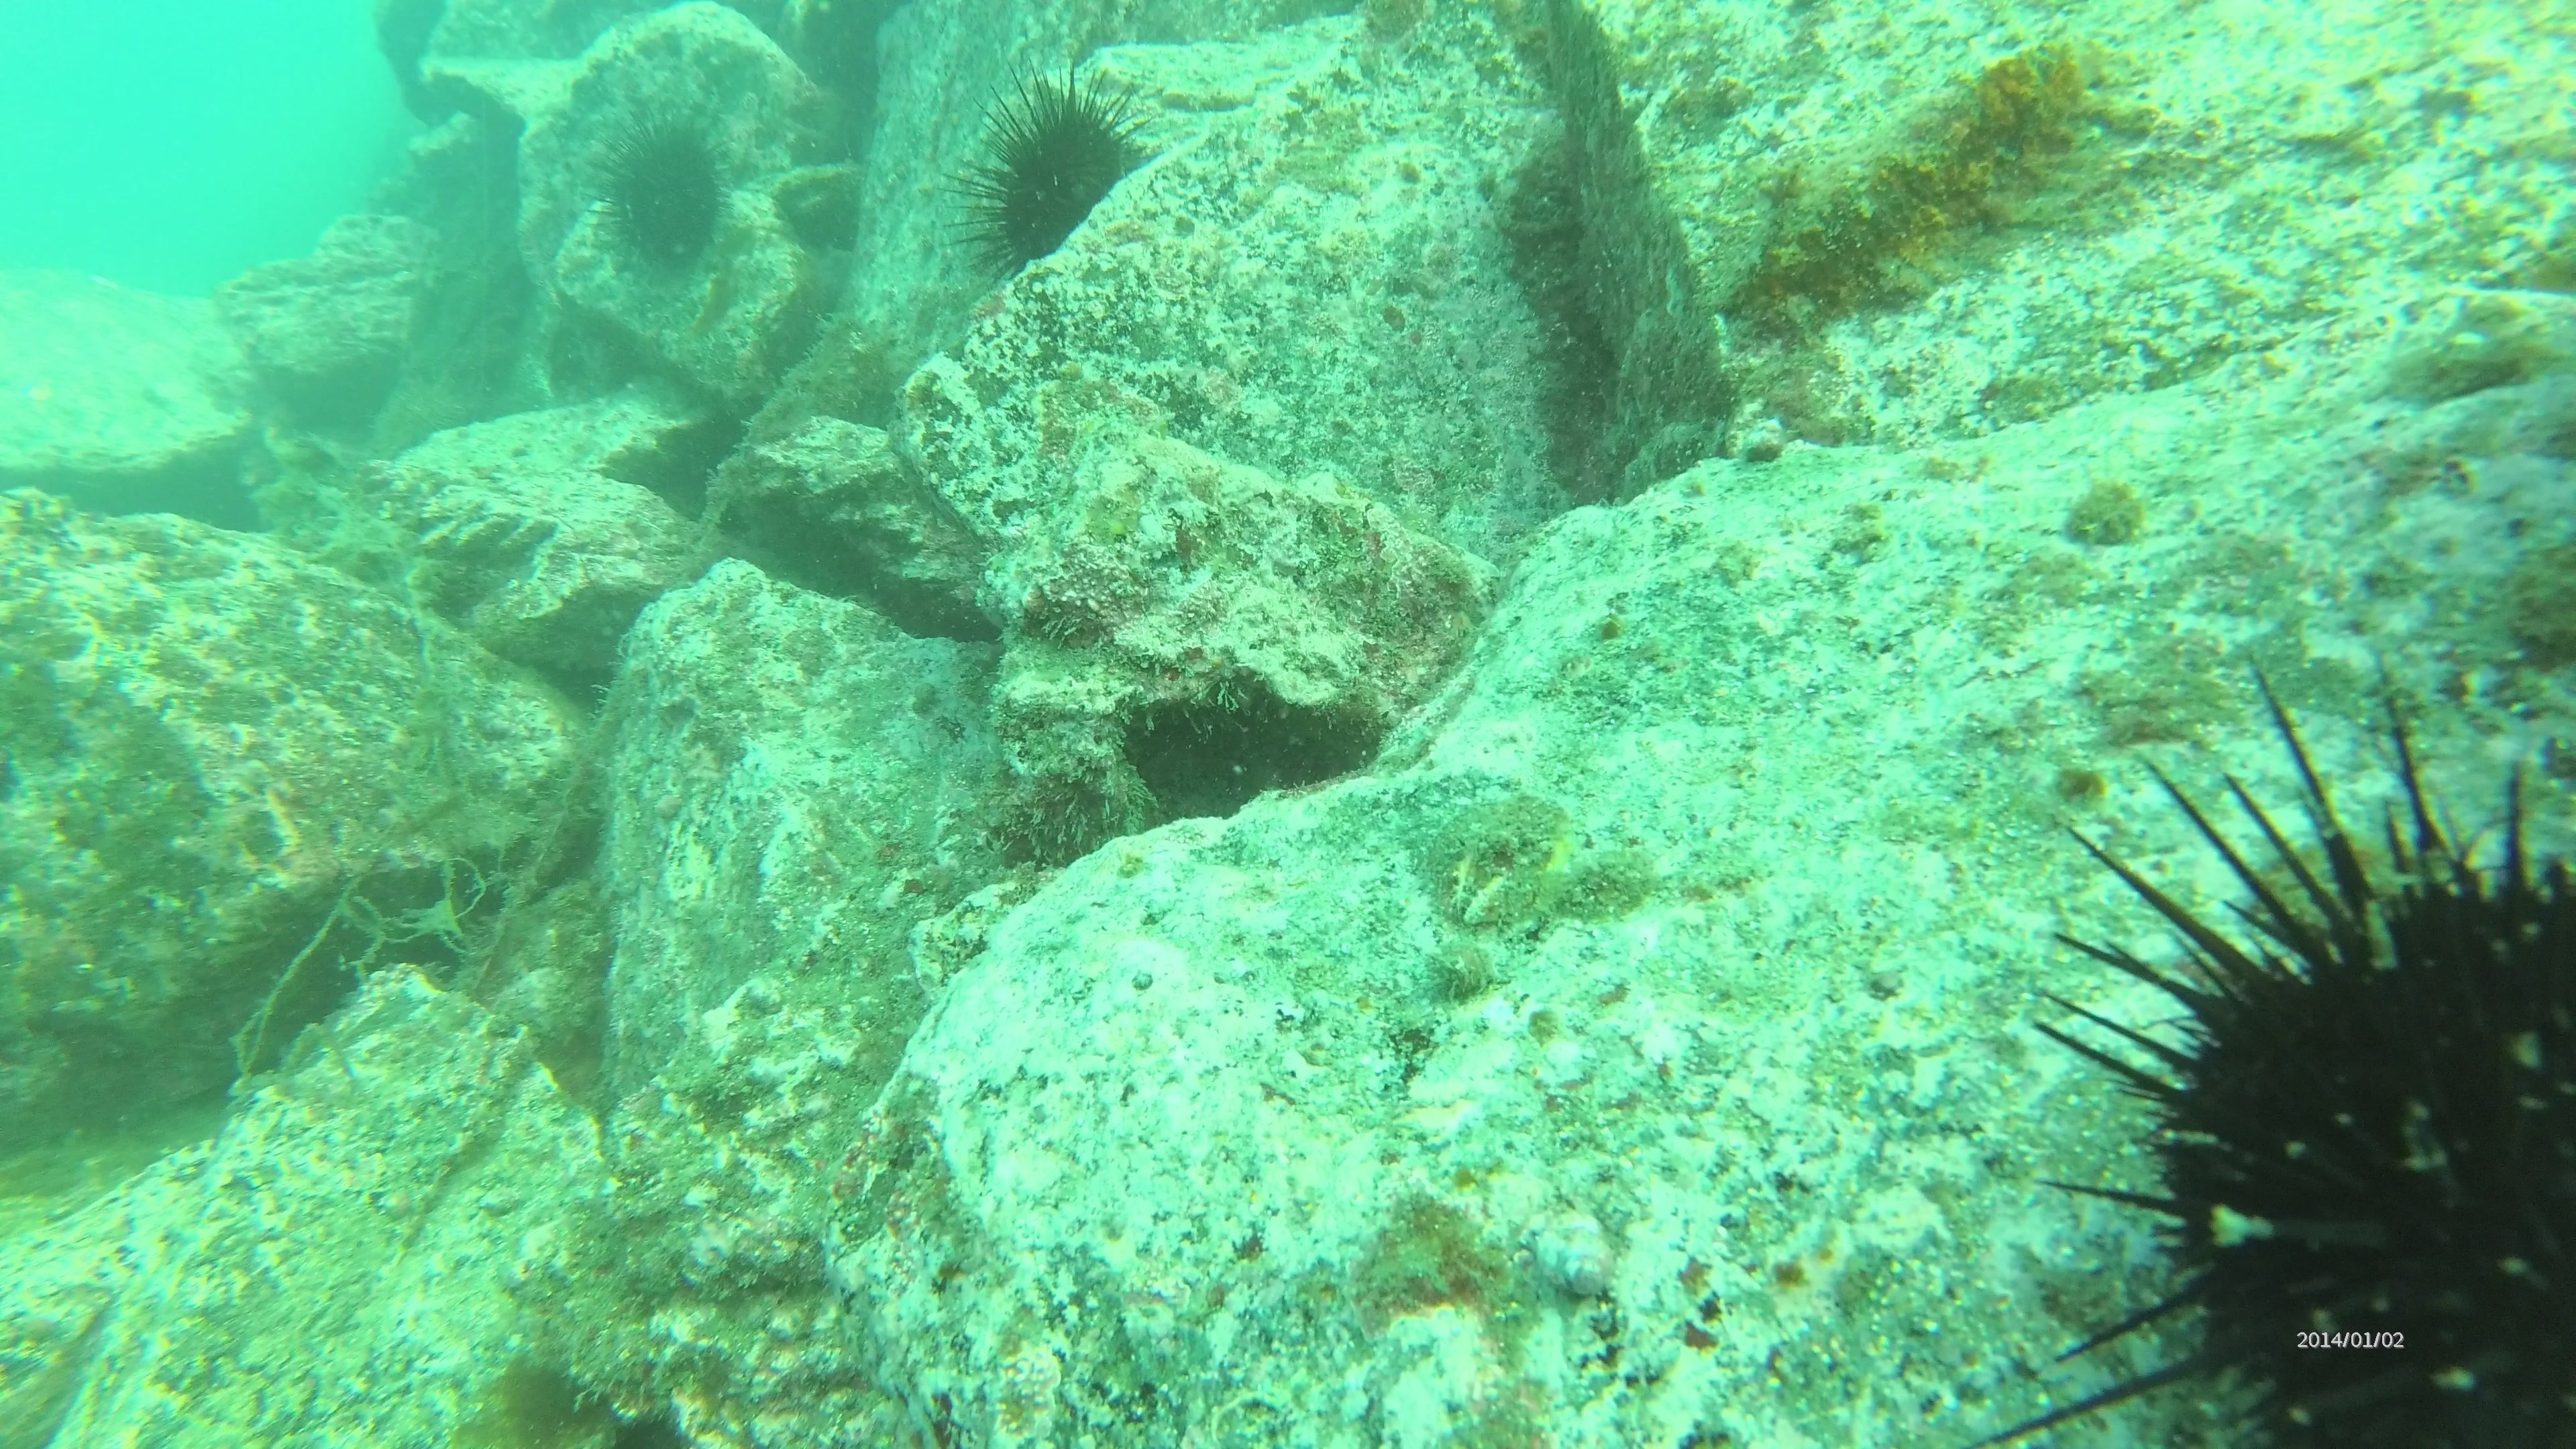echinus: (2029, 697, 2576, 1438), (952, 69, 1157, 281), (589, 108, 740, 283)
